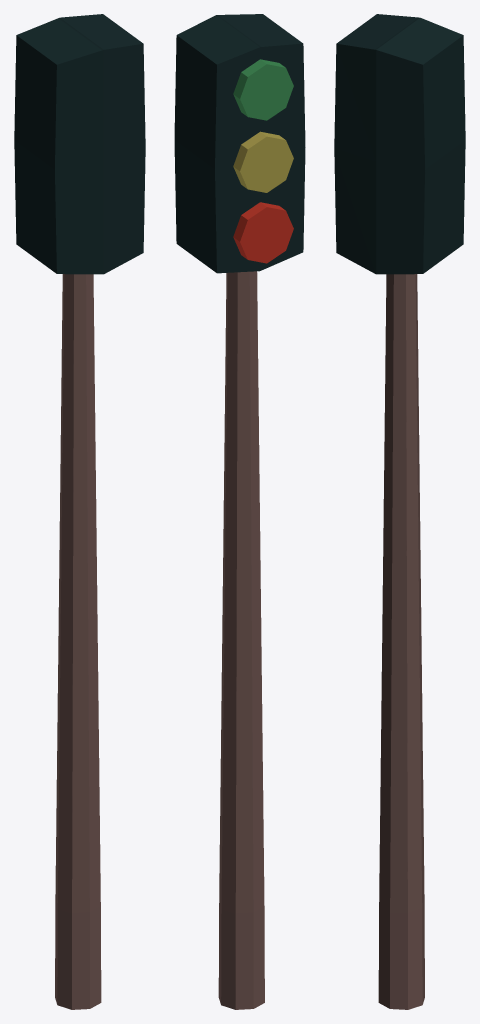
Rendered from CUPIC_TRAFFICLIGHT.obj.
3 renders of one model, left to right at view 1: azimuth 30°, elevation 25°; view 2: azimuth 210°, elevation 25°; view 3: azimuth 330°, elevation 25°, orthographic.
Size of the model in its own units: 44.11 by 450 by 42.8.
Materials: 1 (1 with a texture image).
